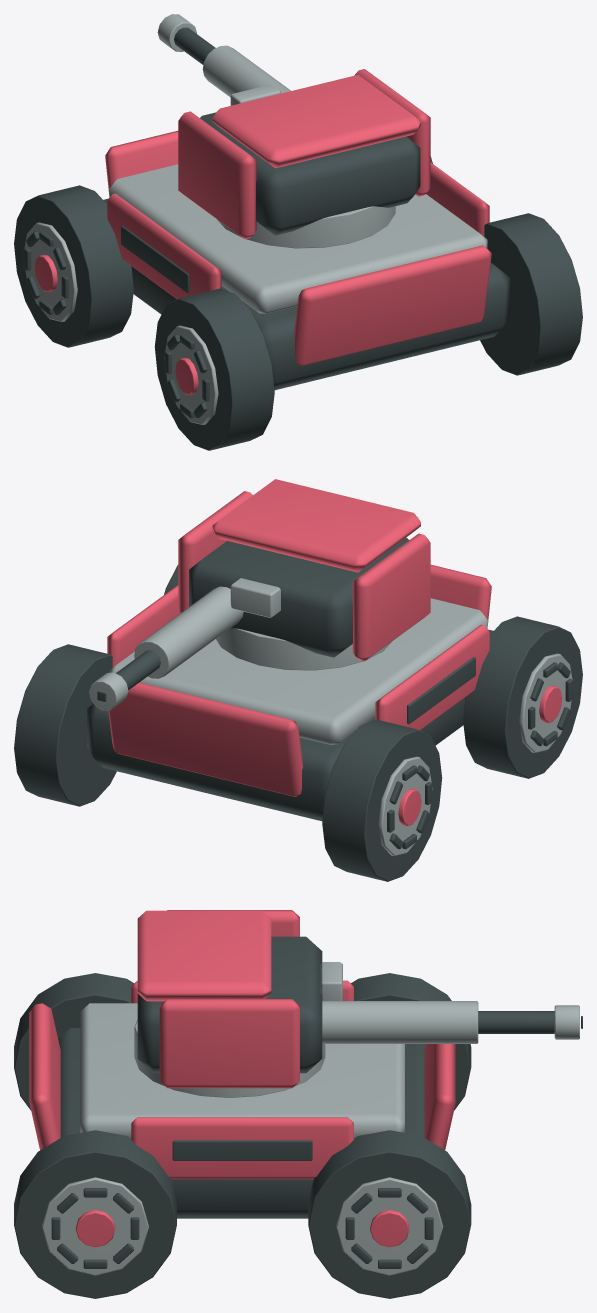
The model's file is robot-red.glb.
The picture shows the model from 3 angles, top to bottom: view 1: azimuth 30°, elevation 25°; view 2: azimuth 150°, elevation 25°; view 3: azimuth 270°, elevation 25°; orthographic projection. The views are drawn at different scales.
Visible parts, largest first — view 1: infantry-chassis, infantry-armor, infantry-mechanics; view 2: infantry-chassis, infantry-armor, infantry-mechanics; view 3: infantry-chassis, infantry-armor, infantry-mechanics.
Part boxes in pixels (x1,y1,x2,y2): infantry-chassis: (14, 27, 582, 450); infantry-armor: (34, 69, 491, 394); infantry-mechanics: (23, 14, 487, 424); infantry-chassis: (14, 537, 582, 881); infantry-armor: (107, 479, 562, 825); infantry-mechanics: (89, 578, 573, 855); infantry-chassis: (14, 936, 582, 1298); infantry-armor: (29, 910, 455, 1247); infantry-mechanics: (42, 962, 579, 1275).
Size of the model in its own units: 0.7 by 0.4575 by 0.8935.
